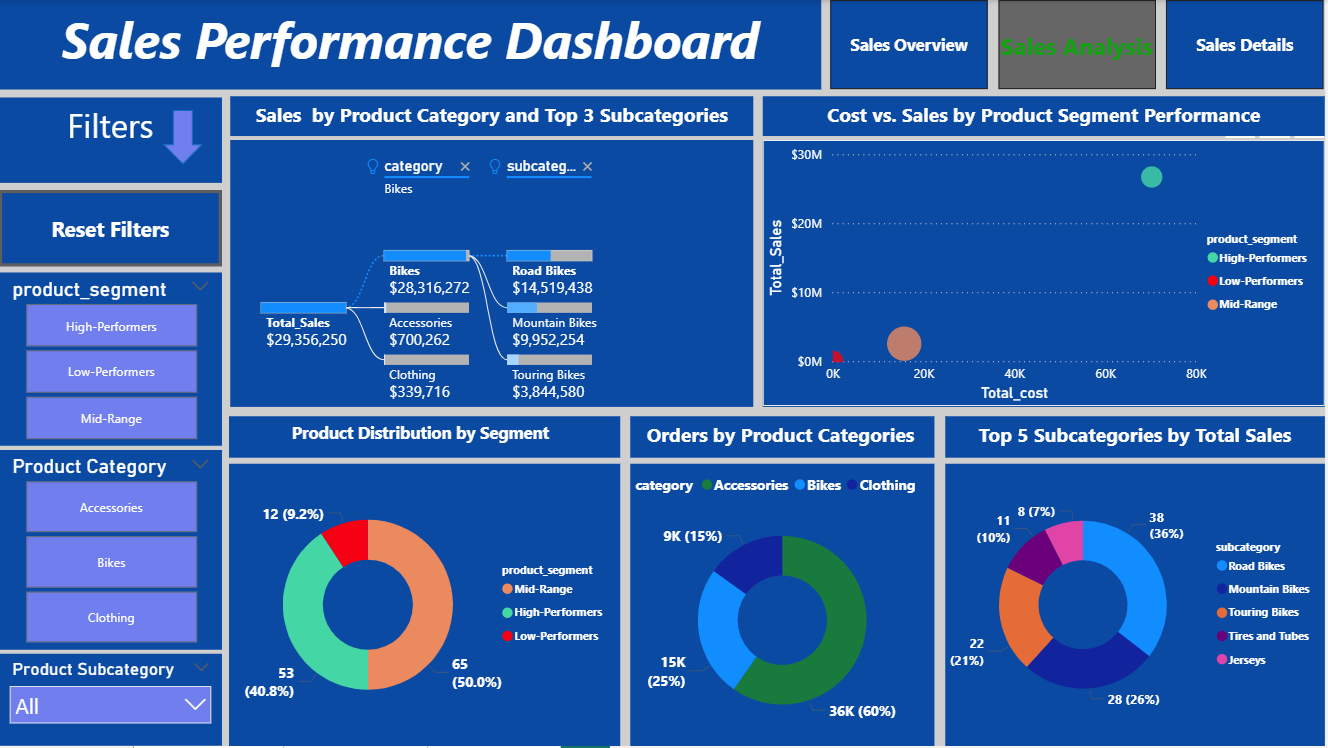

The dashboard page shown, as its layout file describes it:
{"tool":"powerbi","page":{"name":"Sales Analysis","canvas":[1280,720],"ordinal":1},"visuals":[{"type":"slicer","title":"product Category","fields":{"Values":["Data.category"]},"box":[0,434.5,215,192.5],"z":0},{"type":"textbox","box":[0,0,793.8,86.2],"z":1000,"group":"g2"},{"type":"textbox","box":[0,93.5,215,82.5],"z":1000,"group":"g1"},{"type":"slicer","fields":{"Values":["Data.product_segment"]},"box":[0,263.2,215,167.5],"z":1000},{"type":"slicer","fields":{"Values":["Data.subcategory"]},"box":[0,631.2,215,88.8],"z":2000},{"type":"group","id":"g1","title":"Group 1","box":[0,93.5,215,82.5],"z":3000},{"type":"actionButton","box":[0,183.8,215,73.8],"z":4000},{"type":"decompositionTreeVisual","fields":{"ExplainBy":["Data.category","Data.subcategory"],"Analyze":["measures .Total_Sales"]},"box":[223.8,135,505,257.5],"z":5000},{"type":"textbox","box":[223.8,92.5,505,38.8],"z":6000},{"type":"donutChart","fields":{"Category":["Data.product_segment"],"Y":["measures .Number_of_products"]},"box":[222.5,447.5,377.5,272.5],"z":7000},{"type":"textbox","box":[222.5,401.2,377.5,40],"z":8000},{"type":"pieChart","fields":{"Category":["Data.category"],"Y":["measures .Number_of_Orders"]},"box":[608.8,447.5,293.8,272.5],"z":9000},{"type":"textbox","box":[608.8,401.2,293.8,40],"z":10000},{"type":"scatterChart","fields":{"X":["measures .Total_cost"],"Y":["measures .Total_Sales"],"Size":["measures .Total_Quantity"],"Series":["Data.product_segment"]},"box":[737.5,135,542.5,257.5],"z":11000},{"type":"textbox","box":[737.5,92.5,542.5,38.8],"z":12000},{"type":"donutChart","fields":{"Y":["measures .Number_of_products"],"Category":["Data.subcategory"]},"box":[913.8,447.5,366.2,272.5],"z":13000},{"type":"textbox","box":[913.8,401.2,366.2,40],"z":14000},{"type":"shape","box":[157.5,106.2,38.8,52.5],"z":15000},{"type":"group","id":"g2","title":"Group 1","box":[0,0,793.8,86.2],"z":16000},{"type":"pageNavigator","box":[802.1,0,478.2,86.7],"z":17001}]}

Visuals, with their boxes in screenshot pixels (x1, y1, x2, y2), scaled from the page's 1280x720 canvas onto the 1328x748 screenshot:
"product Category" slicer: bbox=[0, 451, 223, 651]
textbox: bbox=[0, 0, 824, 90]
textbox: bbox=[0, 97, 223, 183]
slicer - Data.product_segment: bbox=[0, 273, 223, 447]
slicer - Data.subcategory: bbox=[0, 656, 223, 747]
"Group 1" group: bbox=[0, 97, 223, 183]
actionButton: bbox=[0, 191, 223, 268]
decompositionTreeVisual - Data.category x Data.subcategory: bbox=[232, 140, 756, 408]
textbox: bbox=[232, 96, 756, 136]
donutChart - Data.product_segment x measures .Number_of_products: bbox=[231, 465, 622, 747]
textbox: bbox=[231, 417, 622, 458]
pieChart - Data.category x measures .Number_of_Orders: bbox=[632, 465, 936, 747]
textbox: bbox=[632, 417, 936, 458]
scatterChart - measures .Total_cost x measures .Total_Sales: bbox=[765, 140, 1327, 408]
textbox: bbox=[765, 96, 1327, 136]
donutChart - measures .Number_of_products x Data.subcategory: bbox=[948, 465, 1327, 747]
textbox: bbox=[948, 417, 1327, 458]
shape: bbox=[163, 110, 204, 165]
"Group 1" group: bbox=[0, 0, 824, 90]
pageNavigator: bbox=[832, 0, 1327, 90]
